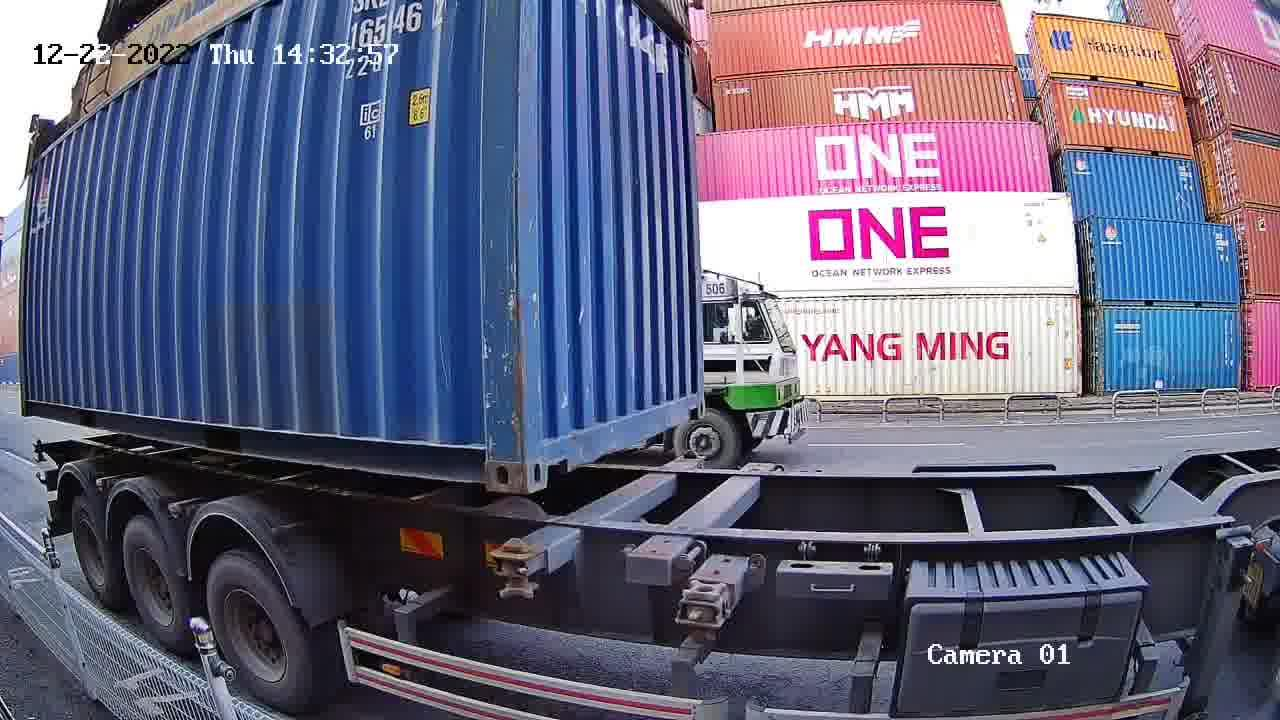Chassis: (492, 455, 701, 578)
Hole_L: (521, 413, 576, 495)
Hole_R: (443, 421, 521, 493), (682, 379, 705, 424)
Tire: (209, 562, 305, 705), (125, 520, 187, 641), (71, 500, 115, 595), (490, 535, 540, 596)
